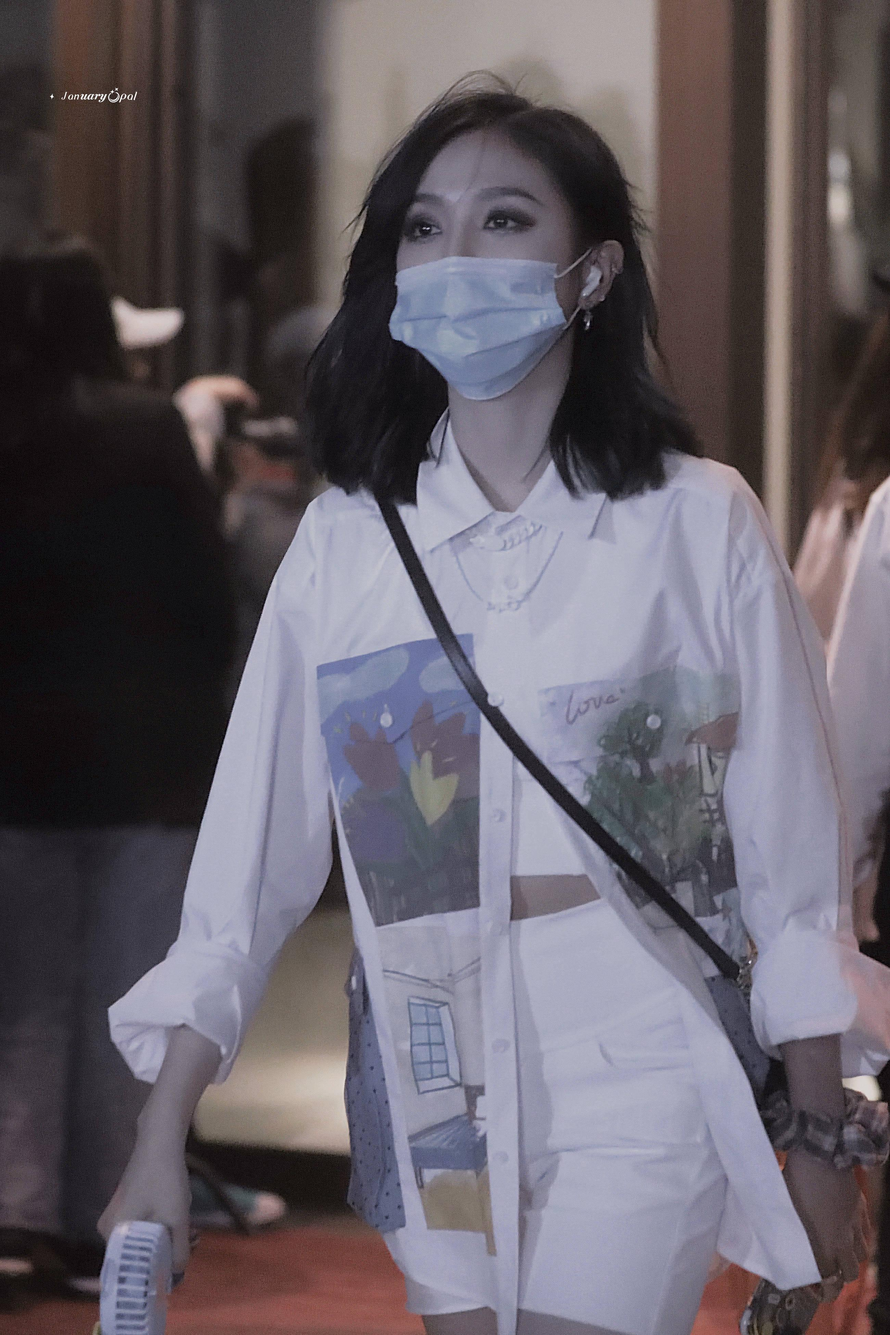OK: (393, 158, 570, 395)
